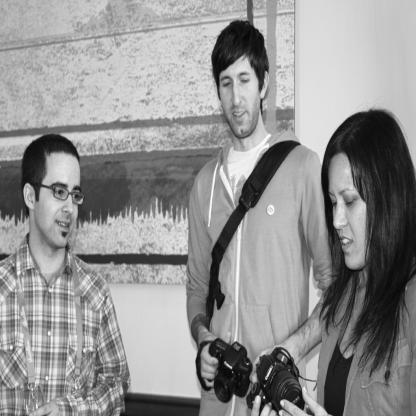Camera: (250, 347, 314, 411), (209, 339, 254, 406)
